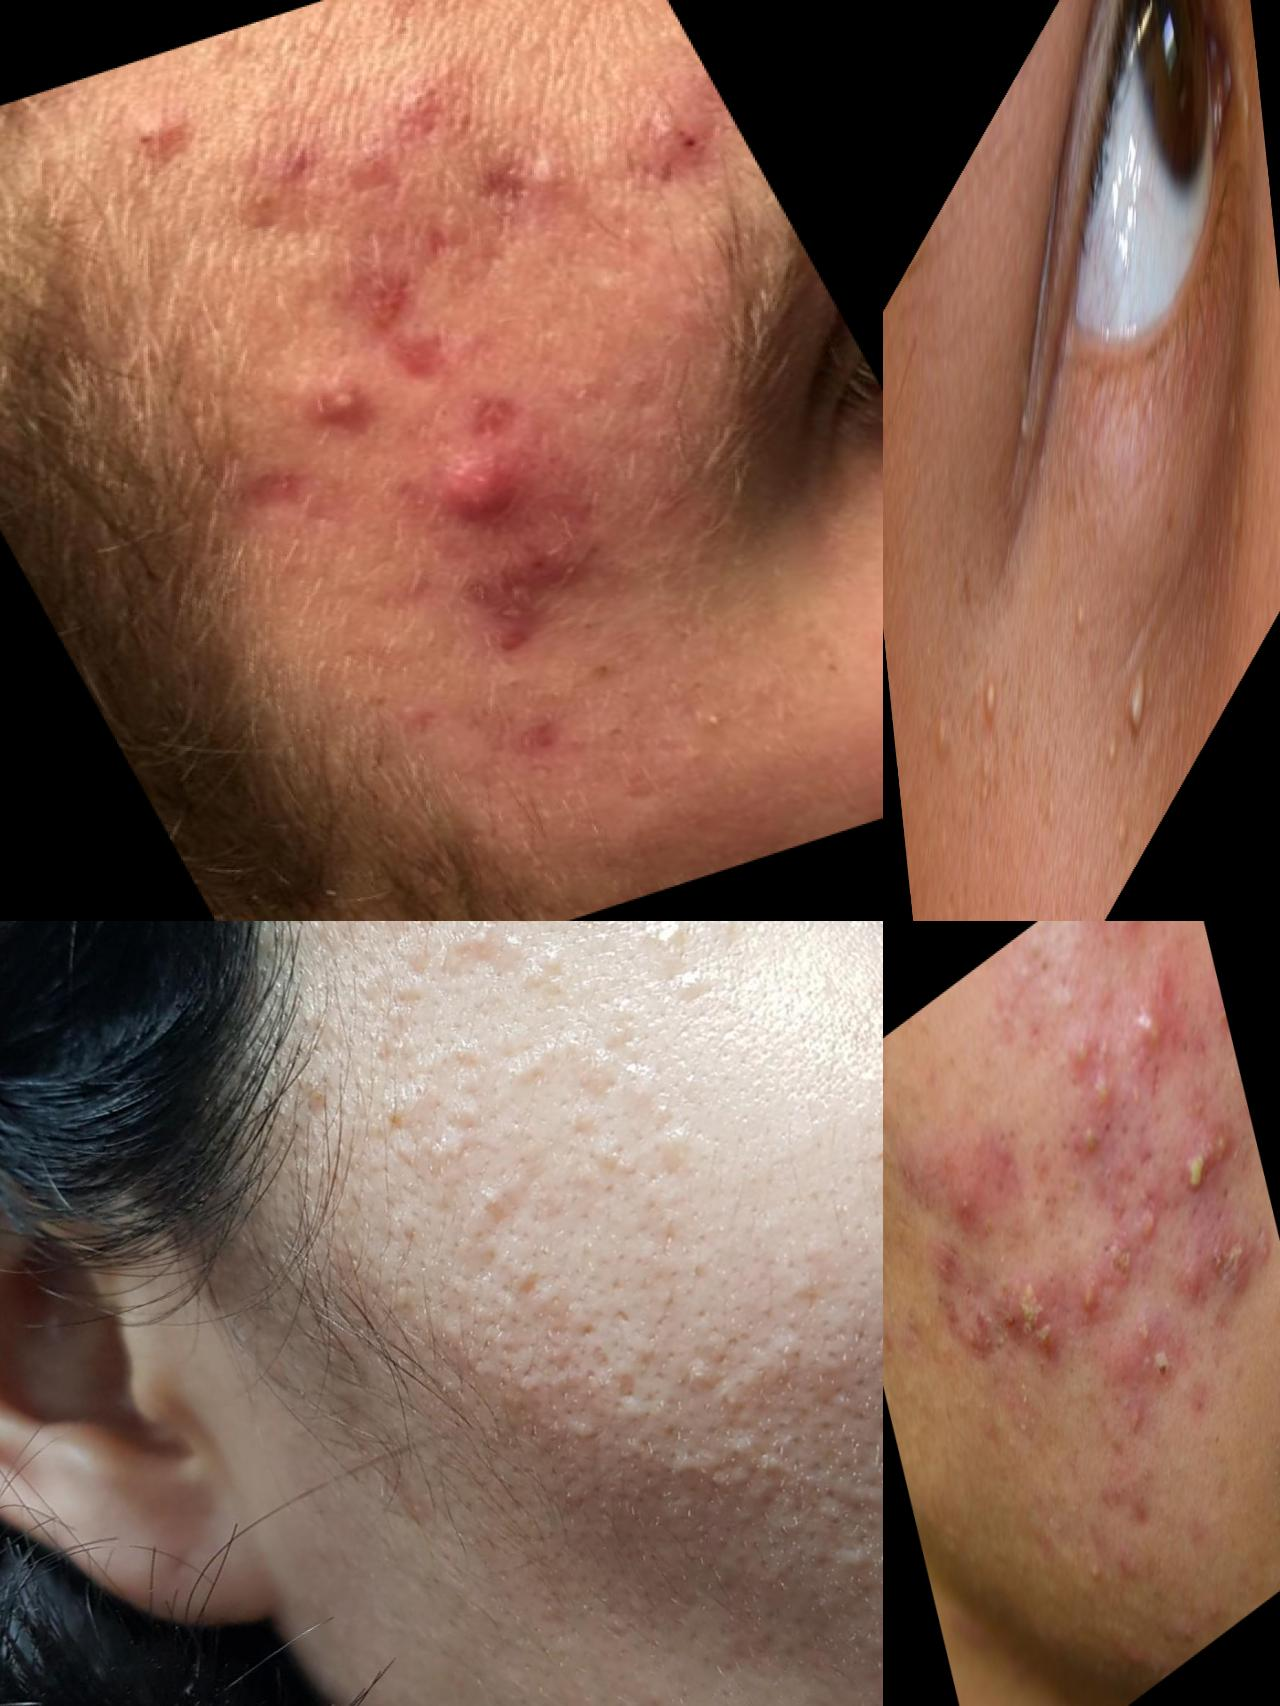acne_scars: (294, 238, 514, 423)
blackhead: (598, 352, 684, 411), (563, 647, 640, 696), (594, 704, 649, 756)
cystic: (405, 429, 559, 557)
flat_wart: (534, 1002, 756, 1238), (332, 922, 549, 1011), (635, 922, 762, 979)
milium: (1119, 647, 1160, 793), (1034, 731, 1070, 877), (1008, 386, 1037, 518), (932, 692, 959, 813), (977, 639, 1006, 752), (1098, 698, 1124, 800), (1068, 575, 1092, 676), (1111, 786, 1136, 882)
papular: (609, 83, 748, 204), (352, 59, 487, 156), (91, 104, 200, 183), (932, 1153, 998, 1266), (1089, 922, 1167, 987), (1181, 1244, 1219, 1326)
purulent: (290, 366, 393, 441), (1076, 1543, 1120, 1629), (1135, 1007, 1164, 1063), (1129, 1305, 1158, 1359), (1066, 1032, 1096, 1084), (1092, 1074, 1117, 1132), (1076, 1129, 1104, 1180)
sebo-crystan-conglo: (992, 1244, 1076, 1395), (1176, 1110, 1250, 1219), (1078, 1227, 1155, 1331), (1217, 1213, 1271, 1317)
whitehead: (523, 1320, 756, 1500), (487, 128, 604, 220), (546, 249, 676, 331), (609, 384, 726, 466), (678, 694, 748, 752)
